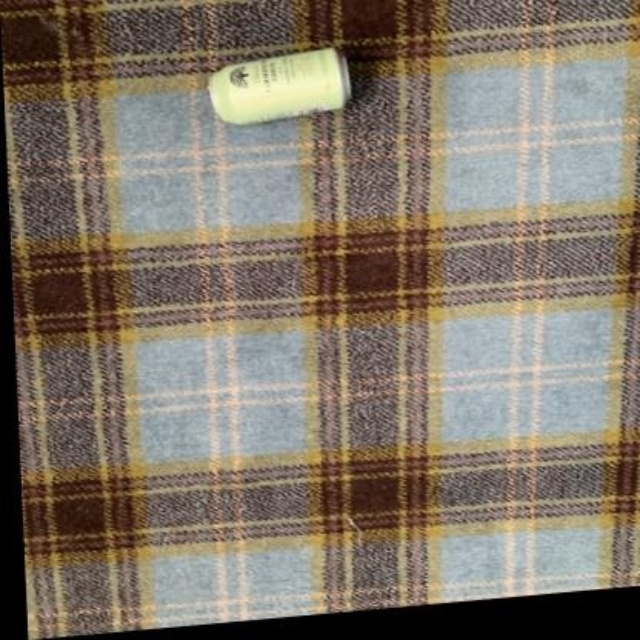trash: (209, 48, 349, 123)
